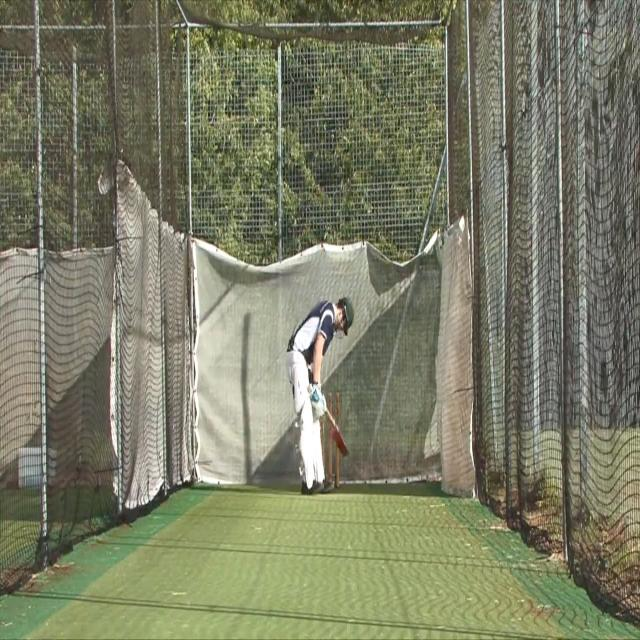batsman: (286, 293, 356, 499)
